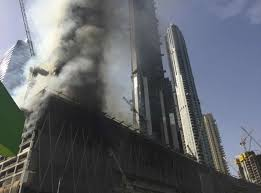smoke: (56, 1, 102, 93)
